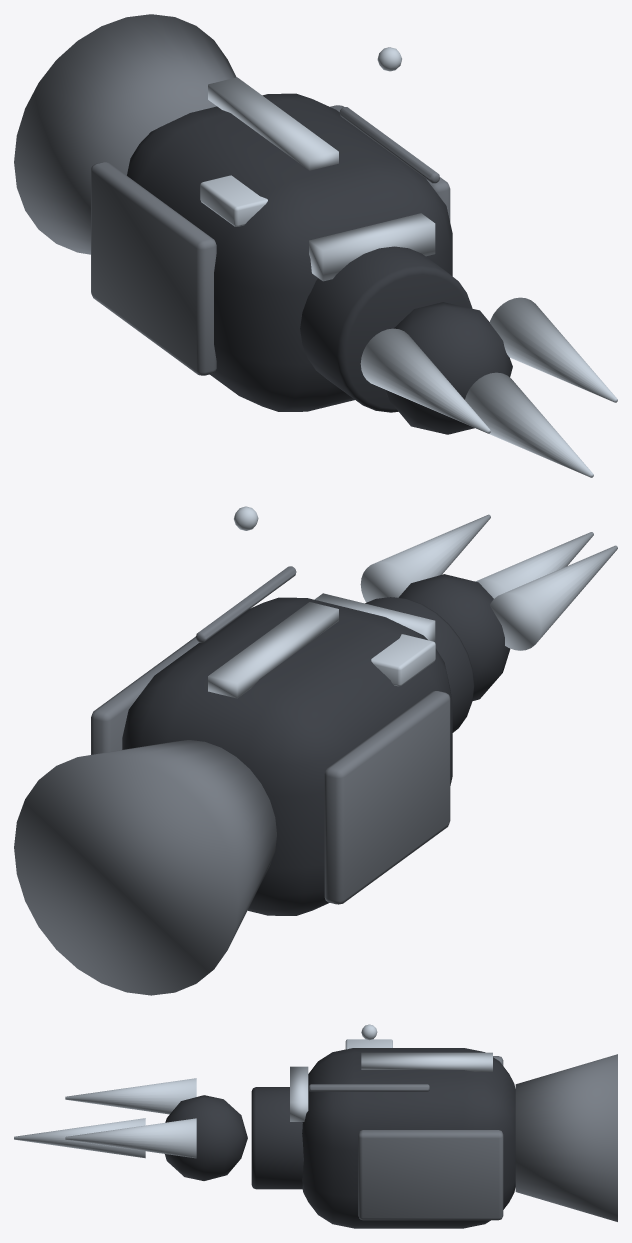
File: weapon_drone_spark_needle.glb
The picture shows the model from 3 angles, top to bottom: view 1: azimuth 30°, elevation 25°; view 2: azimuth 150°, elevation 25°; view 3: azimuth 270°, elevation 25°; orthographic projection. The views are drawn at different scales.
Visible parts, largest first — view 1: weapon_drone_spark_needle; view 2: weapon_drone_spark_needle; view 3: weapon_drone_spark_needle.
Boxes of the visible parts, box(x1,y1,x2,y2) form: weapon_drone_spark_needle: box(14, 14, 617, 477); weapon_drone_spark_needle: box(14, 506, 617, 995); weapon_drone_spark_needle: box(14, 1024, 617, 1228).
Size of the model in its own units: 0.5184 by 0.64 by 1.65.
